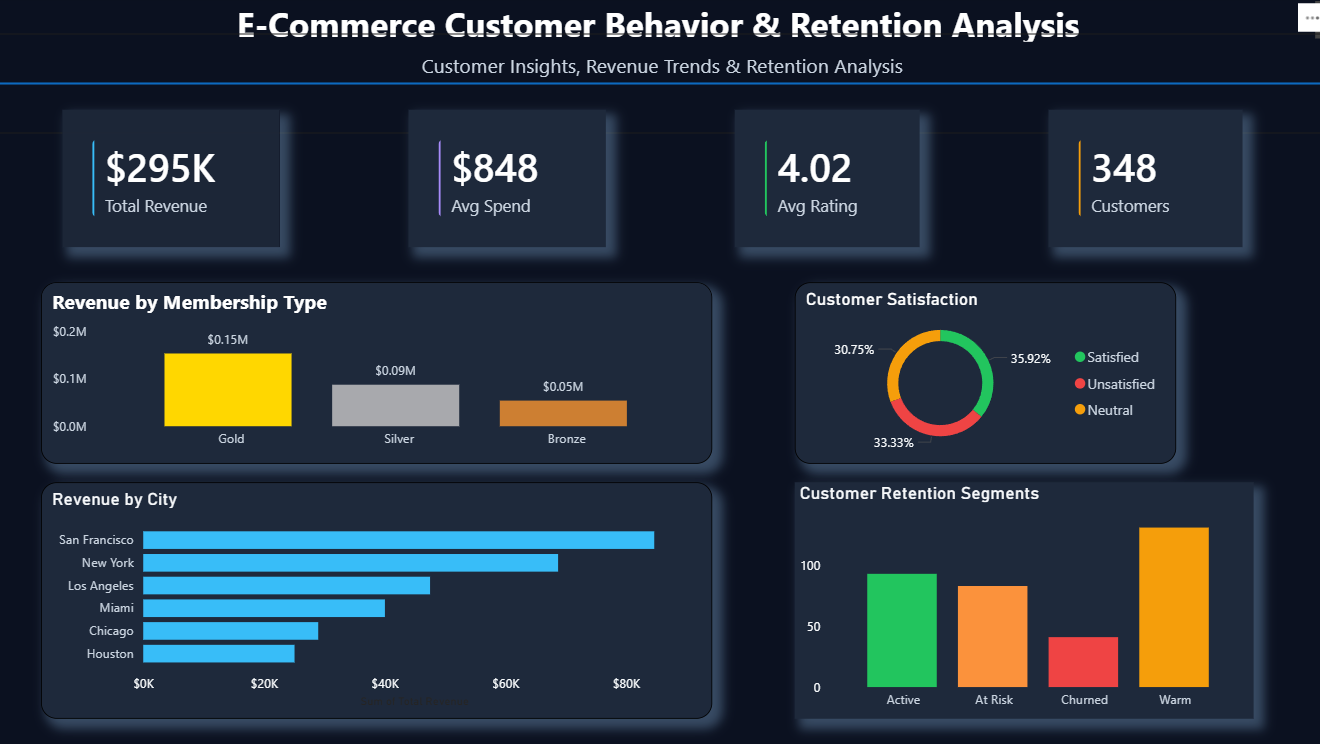

This screenshot's page, from the dashboard's own definition file:
{"tool":"powerbi","page":{"name":"Page 1","canvas":[1280,720],"ordinal":0},"visuals":[{"type":"textbox","box":[0,0,1280.2,48.8],"z":0},{"type":"textbox","box":[0,48.8,1280.2,34.9],"z":1000},{"type":"shape","box":[0,36,1280,96.1],"z":2000},{"type":"cardVisual","fields":{"Data":["Sum(ecommerce_cleaned.Total_Spend)"]},"box":[63.6,109.3,208.9,132.1],"z":3000},{"type":"cardVisual","fields":{"Data":["Avg(ecommerce_cleaned.Total Revenue)"]},"box":[396.2,109.3,189.7,132.1],"z":4000},{"type":"cardVisual","fields":{"Data":["Avg(ecommerce_cleaned.Average_Rating)"]},"box":[709.6,109.3,177.7,132.1],"z":5000},{"type":"cardVisual","fields":{"Data":["CountNonNull(ecommerce_cleaned.Customer_ID)"]},"box":[1011,109.3,186.1,132.1],"z":6000},{"type":"clusteredColumnChart","title":"Revenue by Membership Type","fields":{"Category":["ecommerce_cleaned.Membership_Type"],"Y":["Sum(ecommerce_cleaned.Total Revenue)"]},"box":[43.2,275,644.8,174.1],"z":7000},{"type":"donutChart","title":"Customer Satisfaction","fields":{"Category":["ecommerce_cleaned.Satisfaction_Level"],"Y":["CountNonNull(ecommerce_cleaned.Customer_ID)"]},"box":[767.3,275,366.2,174.1],"z":8000},{"type":"barChart","title":"Revenue by City","fields":{"Category":["ecommerce_cleaned.City"],"Y":["Sum(ecommerce_cleaned.Total Revenue)"]},"box":[43.2,467.1,644.8,226.9],"z":9000},{"type":"clusteredColumnChart","title":"Customer Retention Segments","fields":{"Category":["ecommerce_cleaned.Retention Segment1"],"Y":["CountNonNull(ecommerce_cleaned.Customer_ID)"]},"box":[767.3,467.1,440.7,226.9],"z":10000}]}

Visuals, with their boxes in screenshot pixels (x1, y1, x2, y2), scaled from the page's 1280x720 canvas onto the 1320x744 screenshot:
textbox: left=0, top=0, right=1319, bottom=50
textbox: left=0, top=50, right=1319, bottom=86
shape: left=0, top=37, right=1319, bottom=137
cardVisual - Sum(ecommerce_cleaned.Total_Spend): left=66, top=113, right=281, bottom=249
cardVisual - Avg(ecommerce_cleaned.Total Revenue): left=409, top=113, right=604, bottom=249
cardVisual - Avg(ecommerce_cleaned.Average_Rating): left=732, top=113, right=915, bottom=249
cardVisual - CountNonNull(ecommerce_cleaned.Customer_ID): left=1043, top=113, right=1235, bottom=249
"Revenue by Membership Type" clusteredColumnChart: left=45, top=284, right=710, bottom=464
"Customer Satisfaction" donutChart: left=791, top=284, right=1169, bottom=464
"Revenue by City" barChart: left=45, top=483, right=710, bottom=717
"Customer Retention Segments" clusteredColumnChart: left=791, top=483, right=1246, bottom=717
